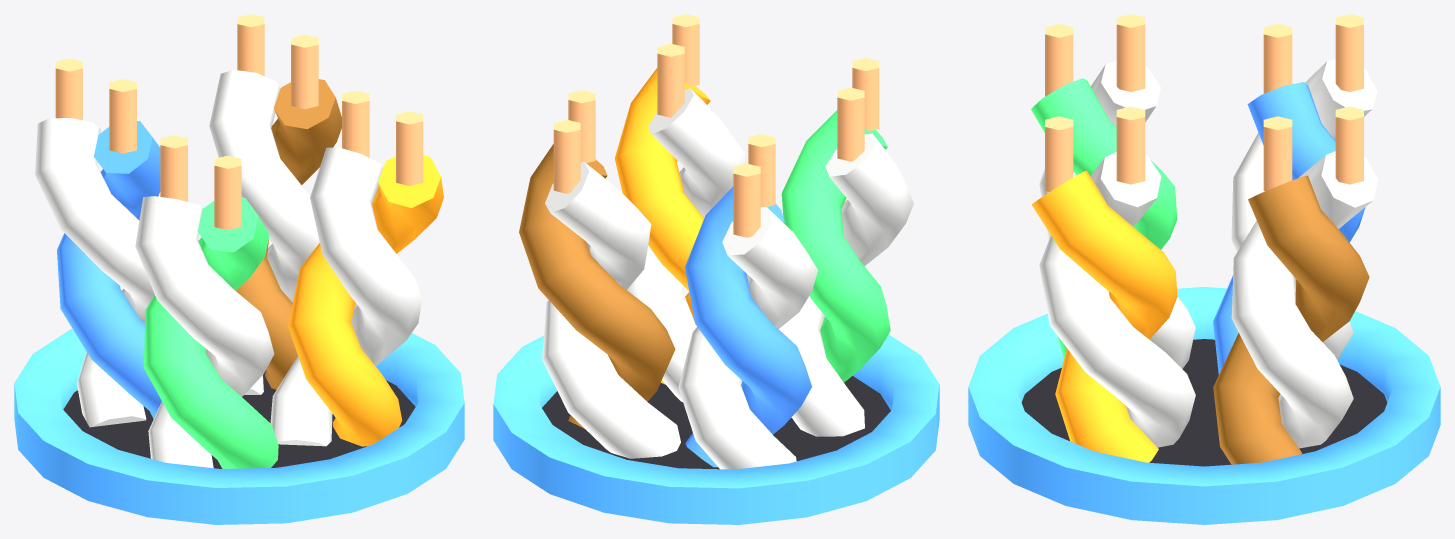
Rendered from cut_lan.glb.
3 renders of one model, left to right at view 1: azimuth 30°, elevation 25°; view 2: azimuth 150°, elevation 25°; view 3: azimuth 270°, elevation 25°, orthographic. The views are drawn at different scales.
Visible parts, largest first — view 1: wires (×5), jacket_ring, copper, filler; view 2: wires (×5), jacket_ring, copper, filler; view 3: wires (×5), jacket_ring, copper, filler.
Part boxes in pixels (x1,y1,x2,y2): wires (×5): (35, 69, 443, 468); jacket_ring: (14, 328, 464, 524); copper: (55, 14, 423, 230); filler: (63, 370, 415, 468); wires (×5): (519, 68, 913, 469); jacket_ring: (493, 316, 939, 524); copper: (553, 14, 879, 237); filler: (542, 376, 890, 469); wires (×5): (1031, 59, 1377, 464); jacket_ring: (968, 287, 1440, 524); copper: (1045, 14, 1363, 191); filler: (1021, 339, 1387, 466).
Size of the model in its own units: 2 by 1.75 by 2.
